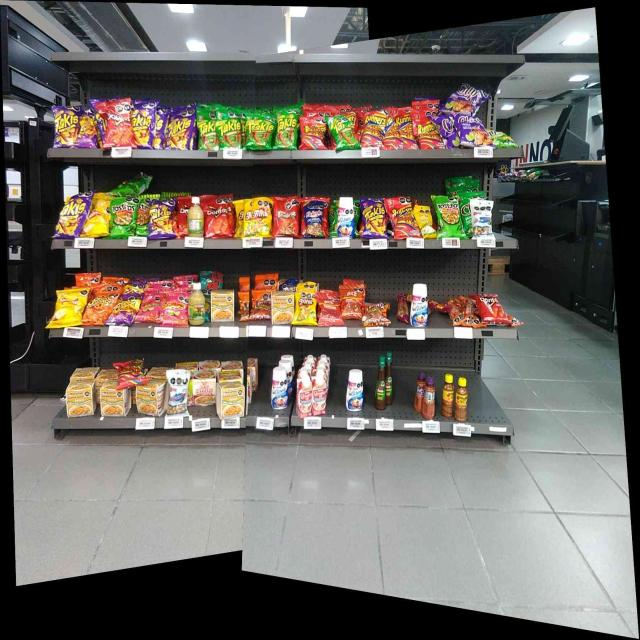bitzEnchilado90: (318, 293, 340, 324), (342, 287, 361, 318)
bitzEnchilado95: (451, 298, 476, 325)
bitzHabanero: (397, 294, 408, 322)
bokadosCacahuates: (306, 203, 323, 238)
botaneraChilito: (441, 373, 454, 417), (455, 378, 468, 420)
cheetosFlaminHot: (112, 295, 136, 325)
cheetosOriginal: (87, 293, 109, 325)
chipsFuego: (447, 87, 481, 114), (458, 116, 487, 145)
chipsPapatinas: (489, 130, 515, 148)
churrumais: (165, 295, 188, 324), (141, 294, 161, 321)
delPrimoSalsa: (188, 196, 204, 236), (190, 282, 205, 324)
doritosNacho: (104, 101, 134, 148), (205, 198, 229, 237), (479, 296, 504, 322)
fritosLimon: (252, 199, 270, 234), (296, 292, 315, 324)
leoCacahuates: (169, 370, 187, 416), (473, 202, 492, 235)
leoMix: (251, 290, 270, 319), (366, 302, 388, 324)
maruchanPollo: (218, 382, 245, 416), (67, 382, 94, 414), (137, 385, 166, 413), (100, 388, 130, 414), (211, 290, 235, 321), (272, 292, 294, 324)
nestleCarnation: (312, 376, 326, 414), (298, 377, 311, 417)
nestleLechera: (411, 284, 428, 327), (346, 370, 364, 410), (271, 367, 288, 409), (338, 196, 354, 236)
nissinRes: (193, 372, 216, 404)
rancheritos: (275, 200, 298, 237)
runners: (391, 198, 414, 235), (301, 118, 326, 149), (364, 109, 384, 147), (397, 112, 416, 148), (419, 112, 436, 148), (119, 361, 144, 383)
sabritasOriginal: (56, 291, 81, 325), (88, 200, 110, 238)
salsaBufalo: (375, 356, 385, 410), (387, 351, 394, 406)
semillasCalabaza: (417, 206, 433, 237)
tajinDulce: (424, 376, 435, 418), (413, 372, 422, 412)
takisFuego: (60, 194, 85, 237), (151, 200, 174, 240), (169, 107, 190, 149), (364, 200, 387, 237), (55, 106, 76, 146), (137, 102, 155, 147)
takisOriginal: (247, 114, 272, 149), (276, 108, 296, 148), (219, 113, 240, 148), (198, 110, 215, 150), (334, 116, 354, 146)
tostitos: (436, 196, 461, 236), (111, 199, 134, 235), (115, 174, 148, 195), (138, 198, 148, 236)
